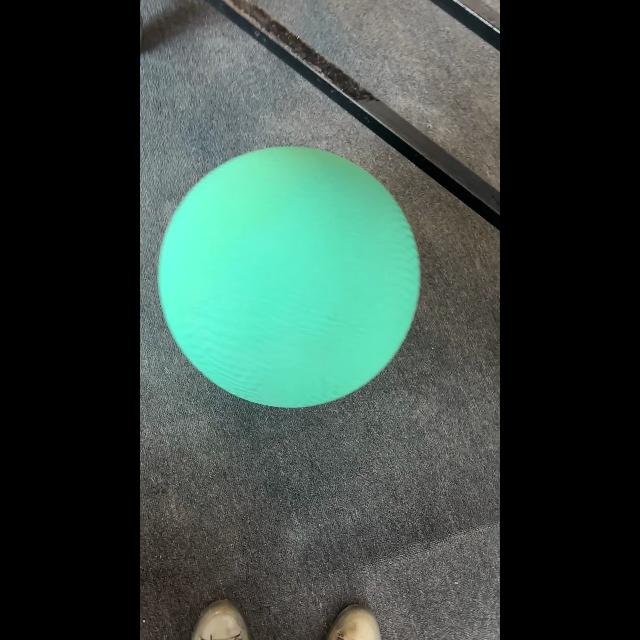ALGAE: (156, 145, 422, 409)
